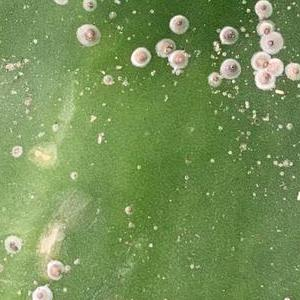Femea: (74, 26, 98, 42), (169, 13, 186, 32), (156, 42, 174, 57), (44, 262, 62, 277), (6, 240, 21, 255), (132, 50, 149, 63), (172, 52, 187, 66), (257, 70, 271, 85), (252, 53, 266, 67), (256, 3, 270, 17), (263, 37, 278, 50), (34, 286, 49, 299), (224, 62, 237, 76), (269, 57, 281, 72), (287, 63, 299, 78), (259, 25, 273, 37), (81, 0, 96, 8)
Linfa: (236, 142, 252, 160), (113, 63, 123, 72), (284, 159, 293, 167), (254, 158, 262, 166), (243, 99, 249, 109), (271, 158, 278, 166), (226, 150, 233, 157), (208, 157, 215, 163), (265, 153, 271, 158), (277, 162, 282, 167)
Macho: (95, 133, 105, 145), (273, 88, 285, 97)
